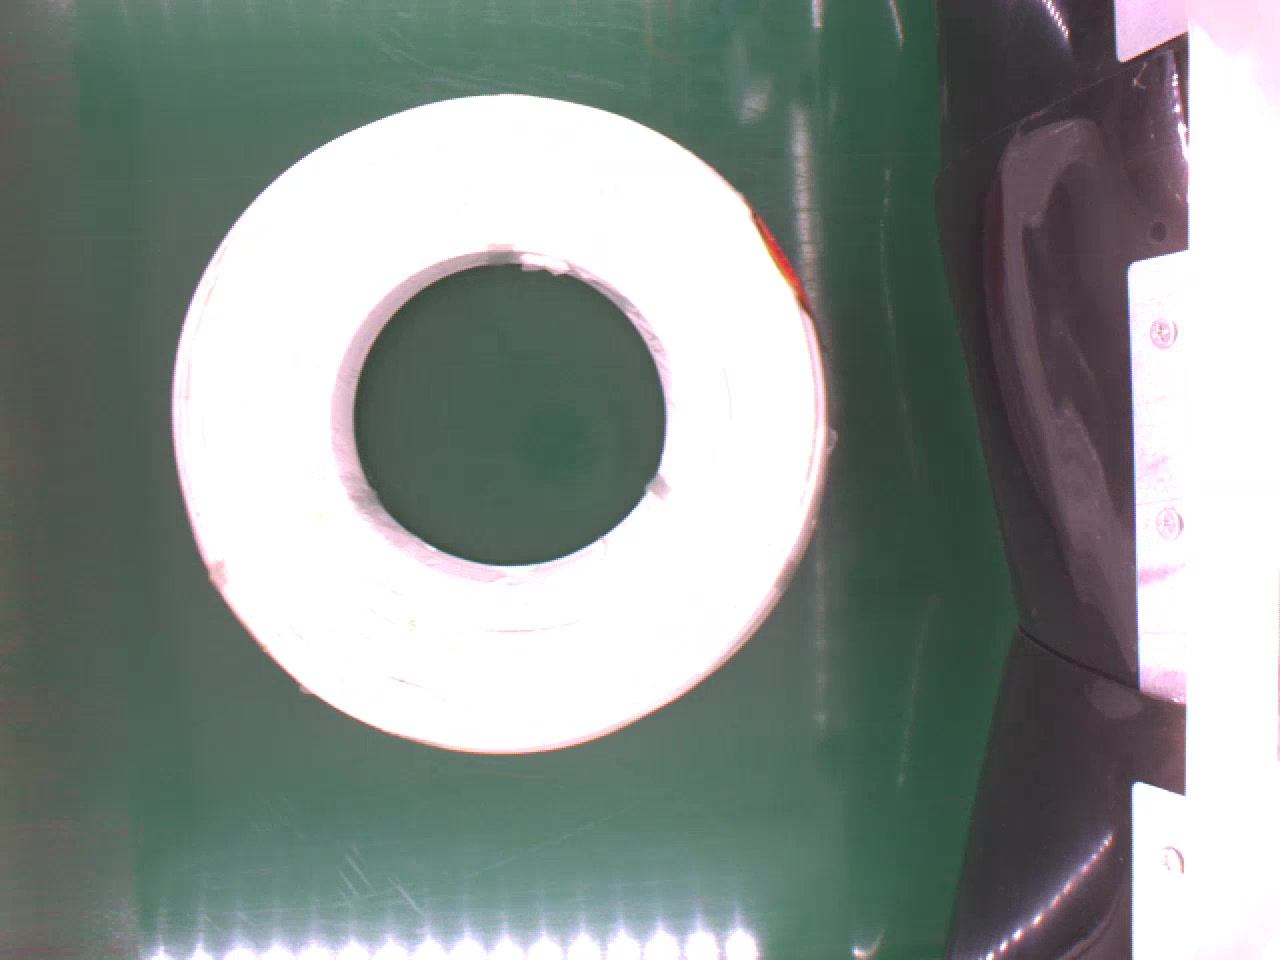white: (166, 90, 835, 755)
